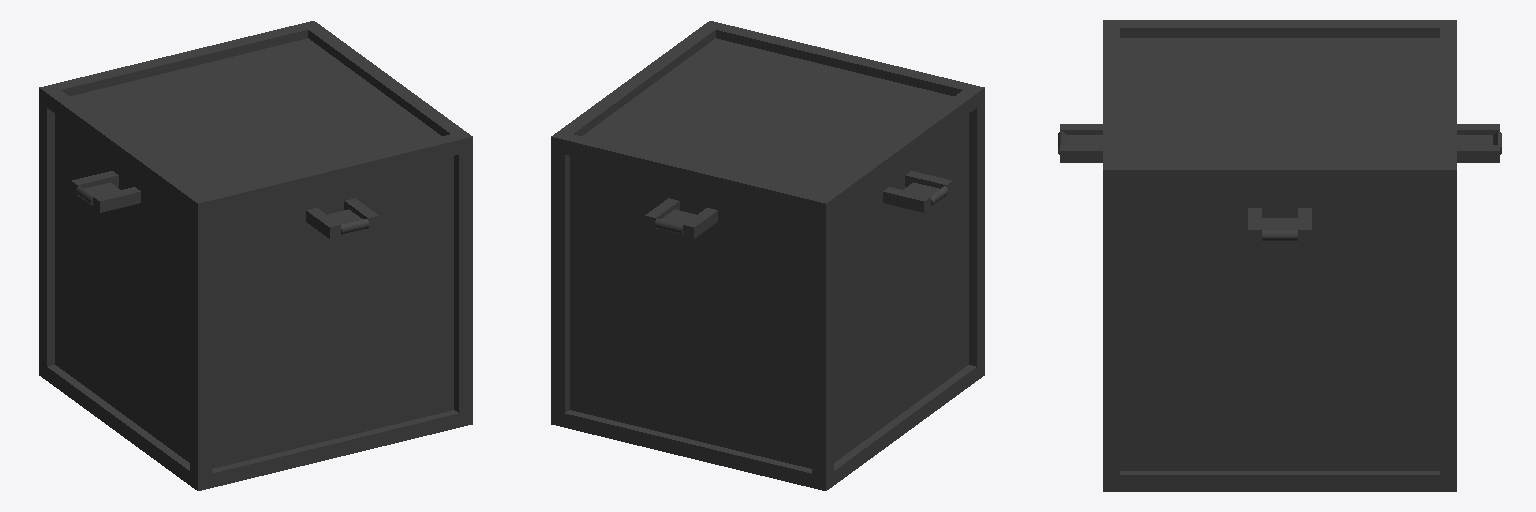
URDF robot description (box_description):
<?xml version="1.0" ?>
<!-- =================================================================================== -->
<!-- |    This document was autogenerated by xacro from src/legged_software/legged_interfaces/unitree_ros/robots/b1z1_description/xacro/box_with_4_handles.xacro | -->
<!-- |    EDITING THIS FILE BY HAND IS NOT RECOMMENDED                                 | -->
<!-- =================================================================================== -->
<robot name="box_description">
  <!-- Material definitions -->
  <material name="dark_gray">
    <color rgba="0.3 0.3 0.3 0.5"/>
  </material>
  <!-- Box link -->
  <link name="box">
    <inertial>
      <mass value="1"/>
      <origin rpy="0 0 0" xyz="0 0 0"/>
      <inertia ixx="0.16670" ixy="0.0" ixz="0.0" iyy="0.16670" iyz="0.0" izz="0.16670"/>
    </inertial>
    <visual>
      <geometry>
        <mesh filename="package://ocs2_multi_robot/assets/robot/b1z1_description/meshes/box.stl"/>
      </geometry>
      <origin rpy="0 0 0" xyz="0 0 0"/>
      <material name="dark_gray"/>
    </visual>
    <collision>
      <geometry>
        <mesh filename="package://ocs2_multi_robot/assets/robot/b1z1_description/meshes/box.stl"/>
      </geometry>
      <origin rpy="0 0 0" xyz="0 0 0"/>
    </collision>
  </link>
  <!-- Add an IMU sensor to the box -->
  <!-- <gazebo reference="box">
    <sensor name="box_imu" type="imu">
      <update_rate>1000</update_rate> 
      <plugin filename="libgazebo_ros_imu.so" name="imu_plugin">
        <ros>
          <namespace>/box</namespace> 
          <remapping>
            <remap from="imu/data" to="box/imu/data"/> 
          </remapping>
        </ros>
        <frameName>box</frameName>
      </plugin>
      <pose>0 0 0 0 0 0</pose> 
    </sensor>
  </gazebo> -->
  <joint name="imu_joint" type="fixed">
    <parent link="box"/>
    <child link="box_imu_link"/>
    <origin rpy="0 0 0" xyz="0 0 0"/>
  </joint>
  <link name="box_imu_link">
    <inertial>
      <mass value="0.001"/>
      <origin rpy="0 0 0" xyz="0 0 0"/>
      <inertia ixx="0.0001" ixy="0" ixz="0" iyy="0.0001" iyz="0" izz="0.0001"/>
    </inertial>
    <visual>
      <origin rpy="0 0 0" xyz="0 0 0"/>
      <geometry>
        <box size="0.001 0.001 0.001"/>
      </geometry>
      <material name="red"/>
    </visual>
    <collision>
      <origin rpy="0 0 0" xyz="0 0 0"/>
      <geometry>
        <box size=".001 .001 .001"/>
      </geometry>
    </collision>
  </link>
  <gazebo reference="box_imu_link">
    <gravity>true</gravity>
    <sensor name="imu_sensor" type="imu">
      <always_on>true</always_on>
      <update_rate>1000</update_rate>
      <visualize>true</visualize>
      <topic>__default_topic__</topic>
      <plugin filename="libgazebo_ros_imu_sensor.so" name="imu_plugin">
        <topicName>cargo_imu</topicName>
        <bodyName>imu_link</bodyName>
        <updateRateHZ>1000.0</updateRateHZ>
        <gaussianNoise>0.0</gaussianNoise>
        <xyzOffset>0 0 0</xyzOffset>
        <rpyOffset>0 0 0</rpyOffset>
        <frameName>imu_link</frameName>
      </plugin>
      <pose>0 0 0 0 0 0</pose>
    </sensor>
  </gazebo>
  <!-- Left handle -->
  <link name="left_handle">
    <inertial>
      <mass value="0.01"/>
      <origin rpy="1.5708 0 1.5708" xyz="0 0 0"/>
      <inertia ixx="0.001" ixy="0.0" ixz="0.0" iyy="0.001" iyz="0.0" izz="0.001"/>
    </inertial>
    <visual>
      <geometry>
        <mesh filename="package://ocs2_multi_robot/assets/robot/b1z1_description/meshes/handle.STL" scale="0.001 0.001 0.001"/>
      </geometry>
      <origin rpy="1.5708 0 1.5708" xyz="0 0 0"/>
      <material name="dark_gray"/>
    </visual>
    <collision>
      <geometry>
        <mesh filename="package://ocs2_multi_robot/assets/robot/b1z1_description/meshes/handle.STL" scale="0.001 0.001 0.001"/>
      </geometry>
      <origin rpy="1.5708 0 1.5708" xyz="0 0 0"/>
    </collision>
  </link>
  <!-- Add Gazebo friction properties -->
  <gazebo reference="left_handle">
    <material>Gazebo/DarkGrey</material>
    <mu1>1.5</mu1>
    <!-- Friction coefficient in first direction -->
    <mu2>1.5</mu2>
    <!-- Friction coefficient in second direction -->
    <kp>1000000.0</kp>
    <!-- Contact stiffness -->
    <kd>100.0</kd>
    <!-- Contact damping -->
    <minDepth>0.001</minDepth>
    <maxVel>0.1</maxVel>
  </gazebo>
  <!-- Right handle -->
  <link name="right_handle">
    <inertial>
      <mass value="0.01"/>
      <origin rpy="1.5708 0 -1.5708" xyz="0 0 0"/>
      <inertia ixx="0.001" ixy="0.0" ixz="0.0" iyy="0.001" iyz="0.0" izz="0.001"/>
    </inertial>
    <visual>
      <geometry>
        <mesh filename="package://ocs2_multi_robot/assets/robot/b1z1_description/meshes/handle.STL" scale="0.001 0.001 0.001"/>
      </geometry>
      <origin rpy="1.5708 0 -1.5708" xyz="0 0 0"/>
      <material name="dark_gray"/>
    </visual>
    <collision>
      <geometry>
        <mesh filename="package://ocs2_multi_robot/assets/robot/b1z1_description/meshes/handle.STL" scale="0.001 0.001 0.001"/>
      </geometry>
      <origin rpy="1.5708 0 -1.5708" xyz="0 0 0"/>
    </collision>
  </link>
  <!-- Add Gazebo friction properties -->
  <gazebo reference="right_handle">
    <material>Gazebo/DarkGrey</material>
    <mu1>1.5</mu1>
    <!-- Friction coefficient in first direction -->
    <mu2>1.5</mu2>
    <!-- Friction coefficient in second direction -->
    <kp>1000000.0</kp>
    <!-- Contact stiffness -->
    <kd>100.0</kd>
    <!-- Contact damping -->
    <minDepth>0.001</minDepth>
    <maxVel>0.1</maxVel>
  </gazebo>
  <!-- Left handle end cube 1 -->
  <link name="left_handle_cube1">
    <inertial>
      <mass value="0.001"/>
      <origin rpy="0 0 0" xyz="0 0 0"/>
      <inertia ixx="0.0001" ixy="0.0" ixz="0.0" iyy="0.0001" iyz="0.0" izz="0.0001"/>
    </inertial>
    <visual>
      <geometry>
        <box size="0.15 0.04 0.04"/>
      </geometry>
      <origin rpy="0 0 0" xyz="0.055 0 0"/>
      <material name="dark_gray"/>
    </visual>
    <collision>
      <geometry>
        <box size="0.15 0.04 0.04"/>
      </geometry>
      <origin rpy="0 0 0" xyz="0.055 0 0"/>
    </collision>
  </link>
  <!-- Left handle end cube 2 -->
  <link name="left_handle_cube2">
    <inertial>
      <mass value="0.001"/>
      <origin rpy="0 0 0" xyz="0 0 0"/>
      <inertia ixx="0.0001" ixy="0.0" ixz="0.0" iyy="0.0001" iyz="0.0" izz="0.0001"/>
    </inertial>
    <visual>
      <geometry>
        <box size="0.15 0.04 0.04"/>
      </geometry>
      <origin rpy="0 0 0" xyz="0.055 0 0"/>
      <material name="dark_gray"/>
    </visual>
    <collision>
      <geometry>
        <box size="0.15 0.04 0.04"/>
      </geometry>
      <origin rpy="0 0 0" xyz="0.055 0 0"/>
    </collision>
  </link>
  <!-- Right handle end cube 1 -->
  <link name="right_handle_cube1">
    <inertial>
      <mass value="0.001"/>
      <origin rpy="0 0 0" xyz="0 0 0"/>
      <inertia ixx="0.0001" ixy="0.0" ixz="0.0" iyy="0.0001" iyz="0.0" izz="0.0001"/>
    </inertial>
    <visual>
      <geometry>
        <box size="0.15 0.04 0.04"/>
      </geometry>
      <origin rpy="0 0 0" xyz="-0.055 0 0"/>
      <material name="dark_gray"/>
    </visual>
    <collision>
      <geometry>
        <box size="0.15 0.04 0.04"/>
      </geometry>
      <origin rpy="0 0 0" xyz="-0.055 0 0"/>
    </collision>
  </link>
  <!-- Right handle end cube 2 -->
  <link name="right_handle_cube2">
    <inertial>
      <mass value="0.001"/>
      <origin rpy="0 0 0" xyz="0 0 0"/>
      <inertia ixx="0.0001" ixy="0.0" ixz="0.0" iyy="0.0001" iyz="0.0" izz="0.0001"/>
    </inertial>
    <visual>
      <geometry>
        <box size="0.15 0.04 0.04"/>
      </geometry>
      <origin rpy="0 0 0" xyz="-0.055 0 0"/>
      <material name="dark_gray"/>
    </visual>
    <collision>
      <geometry>
        <box size="0.15 0.04 0.04"/>
      </geometry>
      <origin rpy="0 0 0" xyz="-0.055 0 0"/>
    </collision>
  </link>
  <!-- Front handle -->
  <link name="front_handle">
    <inertial>
      <mass value="0.01"/>
      <origin rpy="1.5708 0 0" xyz="0 0 0"/>
      <inertia ixx="0.001" ixy="0.0" ixz="0.0" iyy="0.001" iyz="0.0" izz="0.001"/>
    </inertial>
    <visual>
      <geometry>
        <mesh filename="package://ocs2_multi_robot/assets/robot/b1z1_description/meshes/handle.STL" scale="0.001 0.001 0.001"/>
      </geometry>
      <origin rpy="1.5708 0 0" xyz="0 0 0"/>
      <material name="dark_gray"/>
    </visual>
    <collision>
      <geometry>
        <mesh filename="package://ocs2_multi_robot/assets/robot/b1z1_description/meshes/handle.STL" scale="0.001 0.001 0.001"/>
      </geometry>
      <origin rpy="1.5708 0 0" xyz="0 0 0"/>
    </collision>
  </link>
  <gazebo reference="front_handle">
    <material>Gazebo/DarkGrey</material>
    <mu1>1.5</mu1>
    <mu2>1.5</mu2>
    <kp>1000000.0</kp>
    <kd>100.0</kd>
    <minDepth>0.001</minDepth>
    <maxVel>0.1</maxVel>
  </gazebo>
  <!-- Back handle -->
  <link name="back_handle">
    <inertial>
      <mass value="0.01"/>
      <origin rpy="1.5708 0 3.14159" xyz="0 0 0"/>
      <inertia ixx="0.001" ixy="0.0" ixz="0.0" iyy="0.001" iyz="0.0" izz="0.001"/>
    </inertial>
    <visual>
      <geometry>
        <mesh filename="package://ocs2_multi_robot/assets/robot/b1z1_description/meshes/handle.STL" scale="0.001 0.001 0.001"/>
      </geometry>
      <origin rpy="1.5708 0 3.14159" xyz="0 0 0"/>
      <material name="dark_gray"/>
    </visual>
    <collision>
      <geometry>
        <mesh filename="package://ocs2_multi_robot/assets/robot/b1z1_description/meshes/handle.STL" scale="0.001 0.001 0.001"/>
      </geometry>
      <origin rpy="1.5708 0 3.14159" xyz="0 0 0"/>
    </collision>
  </link>
  <gazebo reference="back_handle">
    <material>Gazebo/DarkGrey</material>
    <mu1>1.5</mu1>
    <mu2>1.5</mu2>
    <kp>1000000.0</kp>
    <kd>100.0</kd>
    <minDepth>0.001</minDepth>
    <maxVel>0.1</maxVel>
  </gazebo>
  <!-- Front handle end cube 1 -->
  <link name="front_handle_cube1">
    <inertial>
      <mass value="0.001"/>
      <origin rpy="0 0 0" xyz="0 0 0"/>
      <inertia ixx="0.0001" ixy="0.0" ixz="0.0" iyy="0.0001" iyz="0.0" izz="0.0001"/>
    </inertial>
    <visual>
      <geometry>
        <box size="0.04 0.15 0.04"/>
      </geometry>
      <origin rpy="0 0 0" xyz="0 -0.055 0"/>
      <material name="dark_gray"/>
    </visual>
    <collision>
      <geometry>
        <box size="0.04 0.15 0.04"/>
      </geometry>
      <origin rpy="0 0 0" xyz="0 -0.055 0"/>
    </collision>
  </link>
  <!-- Front handle end cube 2 -->
  <link name="front_handle_cube2">
    <inertial>
      <mass value="0.001"/>
      <origin rpy="0 0 0" xyz="0 0 0"/>
      <inertia ixx="0.0001" ixy="0.0" ixz="0.0" iyy="0.0001" iyz="0.0" izz="0.0001"/>
    </inertial>
    <visual>
      <geometry>
        <box size="0.04 0.15 0.04"/>
      </geometry>
      <origin rpy="0 0 0" xyz="0 -0.055 0"/>
      <material name="dark_gray"/>
    </visual>
    <collision>
      <geometry>
        <box size="0.04 0.15 0.04"/>
      </geometry>
      <origin rpy="0 0 0" xyz="0 -0.055 0"/>
    </collision>
  </link>
  <!-- Back handle end cube 1 -->
  <link name="back_handle_cube1">
    <inertial>
      <mass value="0.001"/>
      <origin rpy="0 0 0" xyz="0 0 0"/>
      <inertia ixx="0.0001" ixy="0.0" ixz="0.0" iyy="0.0001" iyz="0.0" izz="0.0001"/>
    </inertial>
    <visual>
      <geometry>
        <box size="0.04 0.15 0.04"/>
      </geometry>
      <origin rpy="0 0 0" xyz="0 0.055 0"/>
      <material name="dark_gray"/>
    </visual>
    <collision>
      <geometry>
        <box size="0.04 0.15 0.04"/>
      </geometry>
      <origin rpy="0 0 0" xyz="0 0.055 0"/>
    </collision>
  </link>
  <!-- Back handle end cube 2 -->
  <link name="back_handle_cube2">
    <inertial>
      <mass value="0.001"/>
      <origin rpy="0 0 0" xyz="0 0 0"/>
      <inertia ixx="0.0001" ixy="0.0" ixz="0.0" iyy="0.0001" iyz="0.0" izz="0.0001"/>
    </inertial>
    <visual>
      <geometry>
        <box size="0.04 0.15 0.04"/>
      </geometry>
      <origin rpy="0 0 0" xyz="0 0.055 0"/>
      <material name="dark_gray"/>
    </visual>
    <collision>
      <geometry>
        <box size="0.04 0.15 0.04"/>
      </geometry>
      <origin rpy="0 0 0" xyz="0 0.055 0"/>
    </collision>
  </link>
  <!-- Joints -->
  <joint name="left_handle_joint" type="fixed">
    <parent link="box"/>
    <child link="left_handle"/>
    <origin rpy="0 0 0" xyz="-0.6 0 0.35"/>
    <dynamics friction="0.8"/>
  </joint>
  <joint name="right_handle_joint" type="fixed">
    <parent link="box"/>
    <child link="right_handle"/>
    <origin rpy="0 0 0" xyz="0.6 0 0.35"/>
    <dynamics friction="0.8"/>
  </joint>
  <joint name="front_handle_joint" type="fixed">
    <parent link="box"/>
    <child link="front_handle"/>
    <origin rpy="0 0 0" xyz="0 0.6 0.35"/>
    <dynamics friction="0.8"/>
  </joint>
  <joint name="back_handle_joint" type="fixed">
    <parent link="box"/>
    <child link="back_handle"/>
    <origin rpy="0 0 0" xyz="0 -0.6 0.35"/>
    <dynamics friction="0.8"/>
  </joint>
  <!-- Left handle cube joints -->
  <joint name="left_handle_cube1_joint" type="fixed">
    <parent link="left_handle"/>
    <child link="left_handle_cube1"/>
    <origin rpy="0 0 0" xyz="0 0.07 0"/>
  </joint>
  <joint name="left_handle_cube2_joint" type="fixed">
    <parent link="left_handle"/>
    <child link="left_handle_cube2"/>
    <origin rpy="0 0 0" xyz="0 -0.07 0"/>
  </joint>
  <!-- Right handle cube joints -->
  <joint name="right_handle_cube1_joint" type="fixed">
    <parent link="right_handle"/>
    <child link="right_handle_cube1"/>
    <origin rpy="0 0 0" xyz="0 0.07 0"/>
  </joint>
  <joint name="right_handle_cube2_joint" type="fixed">
    <parent link="right_handle"/>
    <child link="right_handle_cube2"/>
    <origin rpy="0 0 0" xyz="0 -0.07 0"/>
  </joint>
  <!-- Front handle cube joints -->
  <joint name="front_handle_cube1_joint" type="fixed">
    <parent link="front_handle"/>
    <child link="front_handle_cube1"/>
    <origin rpy="0 0 0" xyz="0.07 0 0"/>
  </joint>
  <joint name="front_handle_cube2_joint" type="fixed">
    <parent link="front_handle"/>
    <child link="front_handle_cube2"/>
    <origin rpy="0 0 0" xyz="-0.07 0 0"/>
  </joint>
  <!-- Back handle cube joints -->
  <joint name="back_handle_cube1_joint" type="fixed">
    <parent link="back_handle"/>
    <child link="back_handle_cube1"/>
    <origin rpy="0 0 0" xyz="0.07 0 0"/>
  </joint>
  <joint name="back_handle_cube2_joint" type="fixed">
    <parent link="back_handle"/>
    <child link="back_handle_cube2"/>
    <origin rpy="0 0 0" xyz="-0.07 0 0"/>
  </joint>
</robot>

--- Facts derived from the render (not from the file) ---
Views: 3 orthographic renders of the robot side by side, from view 1: azimuth 30°, elevation 25°; view 2: azimuth 150°, elevation 25°; view 3: azimuth 270°, elevation 25°.
Robot: box_description — 14 links, 13 joints (13 fixed); root link box; default pose: every joint at zero.
Visible links, largest first — view 1: box, left_handle_cube2, back_handle_cube2, back_handle, left_handle_cube1; view 2: box, left_handle_cube1, front_handle_cube2, front_handle, left_handle_cube2; view 3: box, right_handle, front_handle_cube1, back_handle_cube1.
Boxes of the visible links, left/top/right/bottom form: box: left=39, top=21, right=472, bottom=490; left_handle_cube2: left=93, top=187, right=140, bottom=212; back_handle_cube2: left=306, top=208, right=340, bottom=238; back_handle: left=328, top=209, right=368, bottom=234; left_handle_cube1: left=71, top=171, right=118, bottom=196; box: left=551, top=21, right=984, bottom=490; left_handle_cube1: left=883, top=187, right=930, bottom=212; front_handle_cube2: left=683, top=208, right=717, bottom=238; front_handle: left=655, top=209, right=695, bottom=234; left_handle_cube2: left=905, top=171, right=952, bottom=196; box: left=1103, top=20, right=1456, bottom=491; right_handle: left=1262, top=218, right=1297, bottom=240; front_handle_cube1: left=1457, top=145, right=1499, bottom=162; back_handle_cube1: left=1060, top=145, right=1102, bottom=162.
Size in the robot's own frame: 1.25 by 1.25 by 1 metres.
Meshes: 2 distinct files referenced, 5 mesh visuals loaded (2 binary STL).
